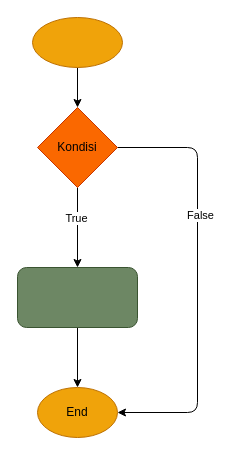
Image size: 231x455. Some labels were removed from this diagram. Each missing label, with the centre of its shape:
"IF Block" goes at (77,297).
"Strart" goes at (77,42).
